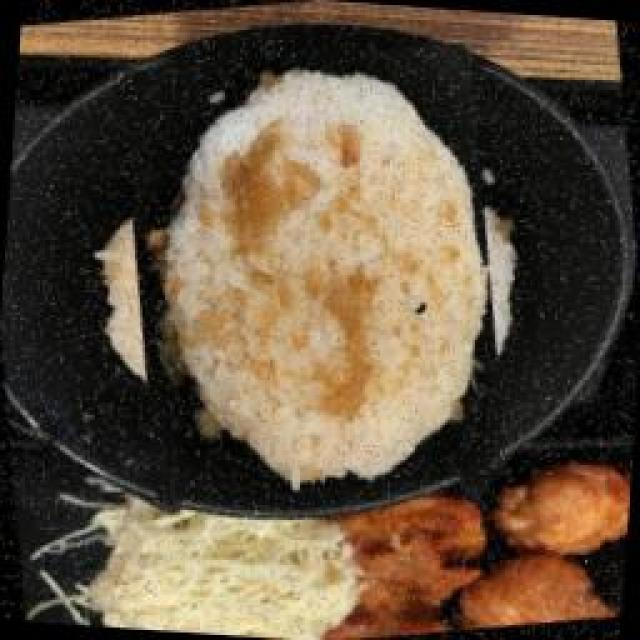Wet Waste: (72, 32, 552, 512)
